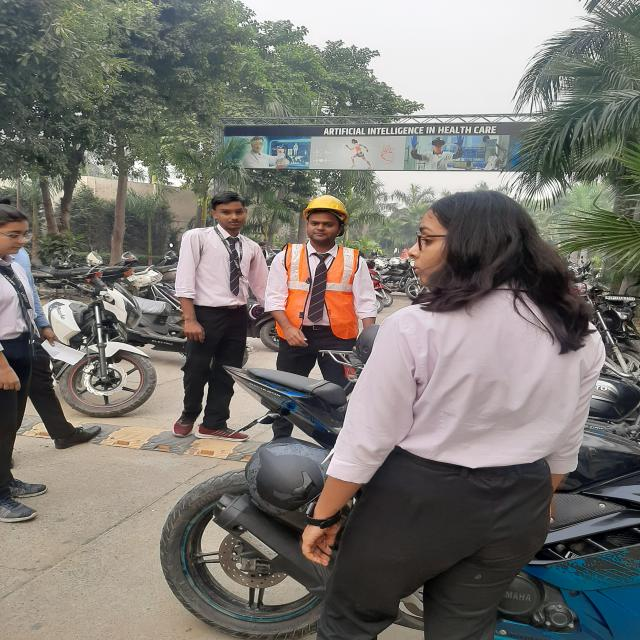safe: (258, 188, 385, 436)
unsafe: (297, 187, 604, 640), (168, 186, 268, 449)
